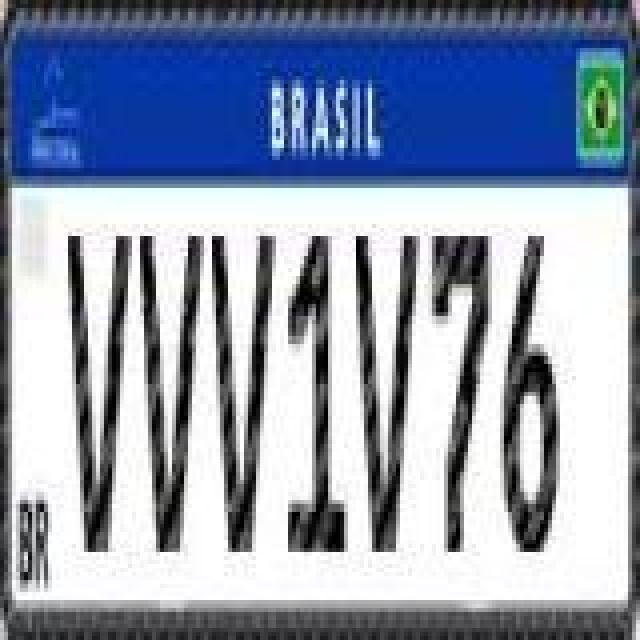1: (284, 230, 348, 554)
6: (496, 230, 560, 554)
7: (428, 230, 492, 554)
V: (138, 224, 206, 560), (66, 230, 134, 554), (210, 230, 278, 554), (356, 230, 420, 554)
